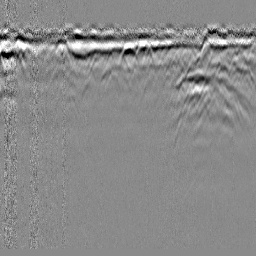cavity: (117, 41, 139, 70)
